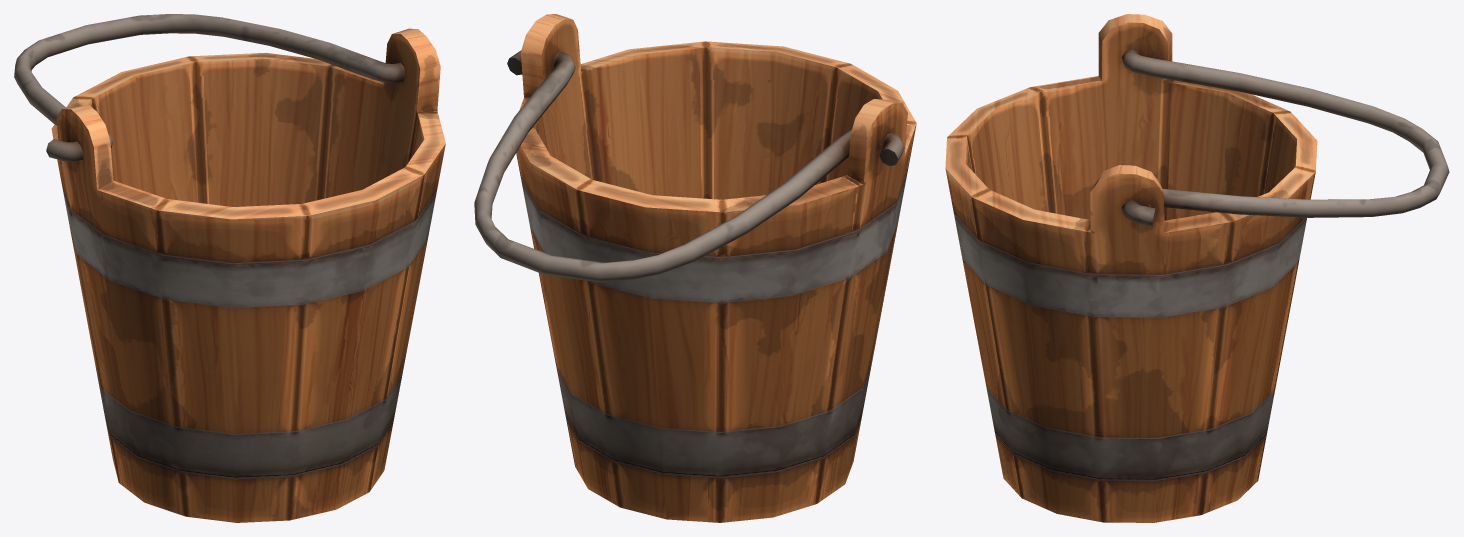
File: BucketWooden01_1.FBX
3 renders of one model, left to right at view 1: azimuth 30°, elevation 25°; view 2: azimuth 150°, elevation 25°; view 3: azimuth 270°, elevation 25°, orthographic. The views are drawn at different scales.
Parts seen in each view (by area): view 1: BucketWooden01_1; view 2: BucketWooden01_1; view 3: BucketWooden01_1.
Boxes of the visible parts, <box> form: BucketWooden01_1: <box>14,14,445,522</box>; BucketWooden01_1: <box>474,14,916,522</box>; BucketWooden01_1: <box>945,14,1449,522</box>.
Size of what is drawn, in the model's own units: 0.4855 by 0.477 by 0.5813.
